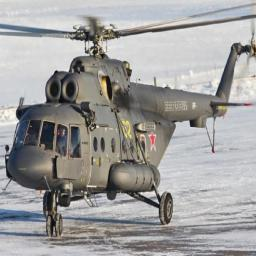helicopter: (6, 4, 256, 241)
